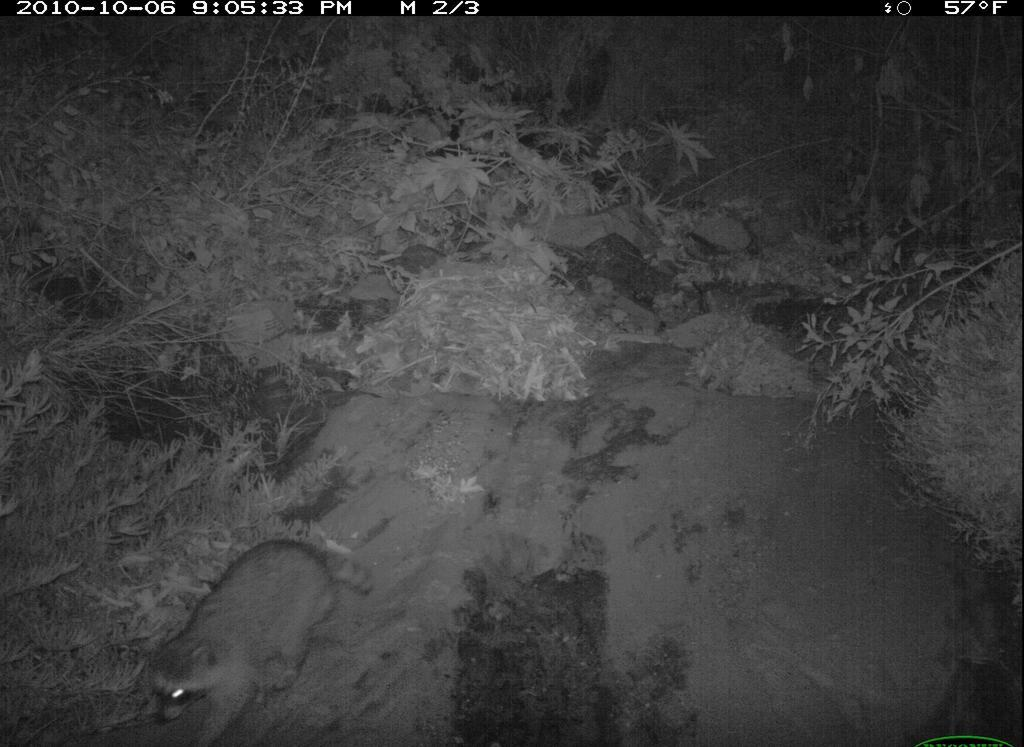raccoon: (131, 534, 377, 747)
